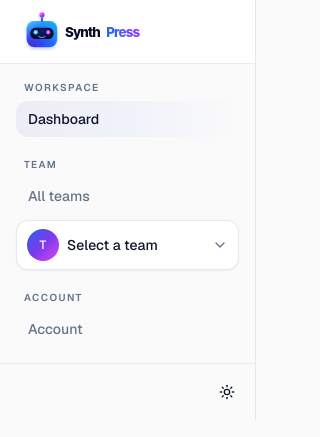
Test: WorkspaceSidebar › opens team picker and lists teams
Click the button with aria-label "Choose or switch team" at [128, 245], box [16,220,239,270]
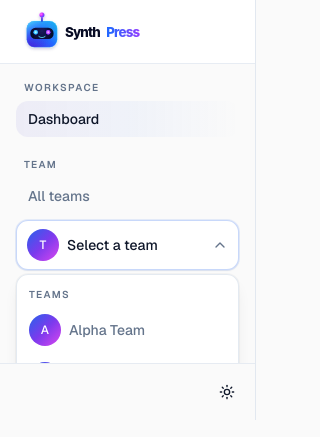
Check: the list named "Switch team" is shown, box [29,288,145,363]
